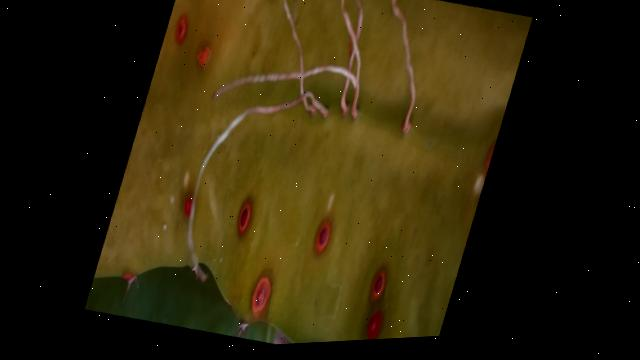stemcanker: (250, 270, 276, 322), (310, 216, 336, 260), (232, 193, 256, 240), (365, 269, 390, 305), (171, 11, 192, 49), (177, 188, 198, 224), (363, 310, 387, 341), (195, 46, 214, 67)
